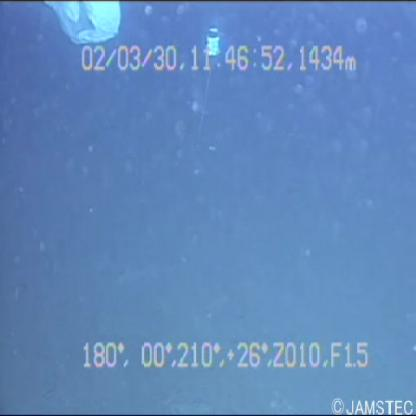Rác: (36, 1, 134, 49)
